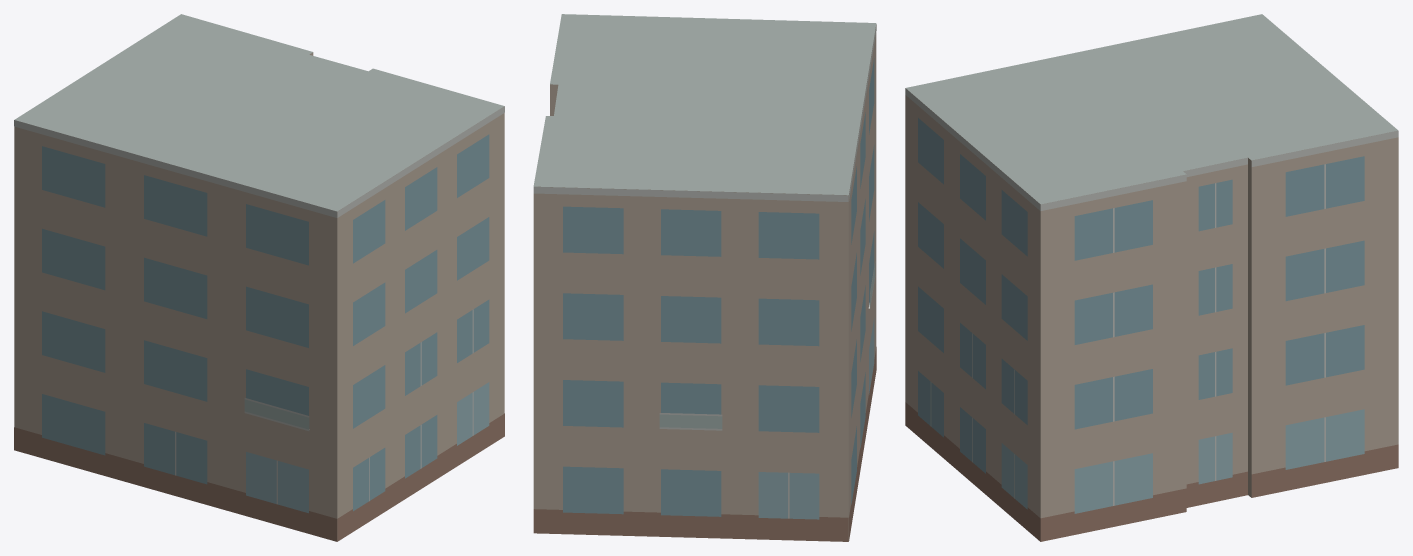
File: survey-upis-33006584.glb
3 renders of one model, left to right at view 1: azimuth 30°, elevation 25°; view 2: azimuth 150°, elevation 25°; view 3: azimuth 270°, elevation 25°, orthographic. The views are drawn at different scales.
Visible parts, largest first — view 1: survey-upis-33006584.tmp; view 2: survey-upis-33006584.tmp; view 3: survey-upis-33006584.tmp.
Boxes of the visible parts, x1,y1,x2,y2 form: survey-upis-33006584.tmp: (14, 14, 504, 541); survey-upis-33006584.tmp: (533, 14, 876, 541); survey-upis-33006584.tmp: (905, 14, 1398, 541).
Bounding box in the file's own units: 14.78 × 12.2 × 16.17.
